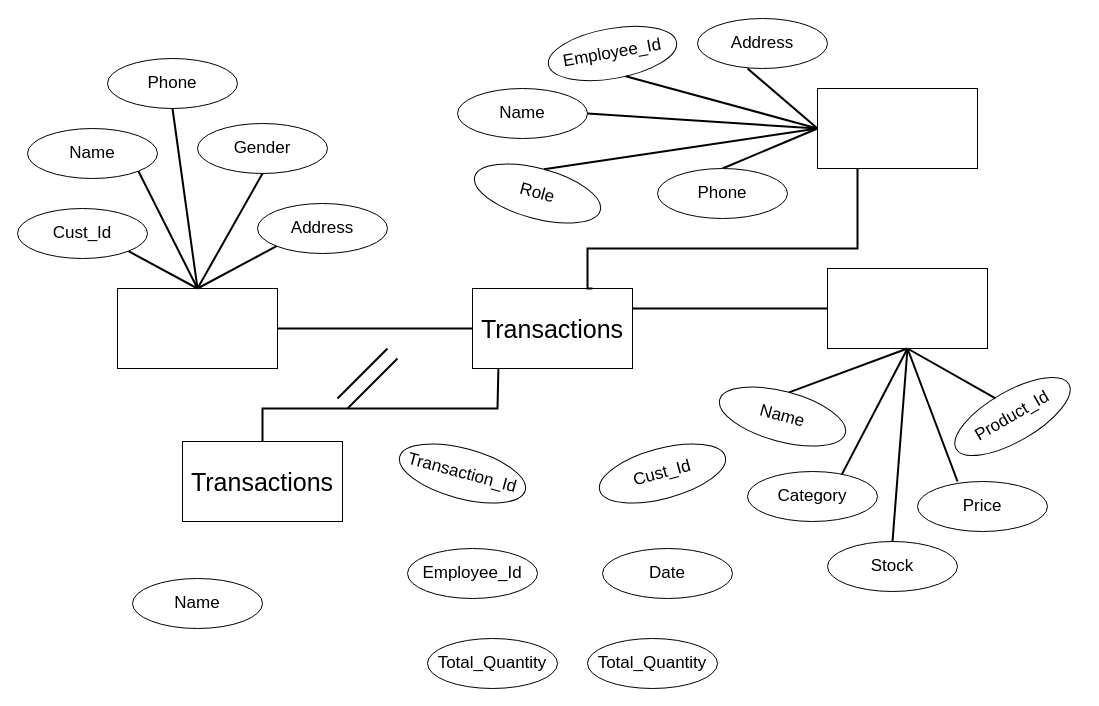
This 1099x706 diagram has some shape labels left out. Each missing label, with the centre of its shape:
Customers: [197,328]
Employees: [897,128]
Products: [907,308]
